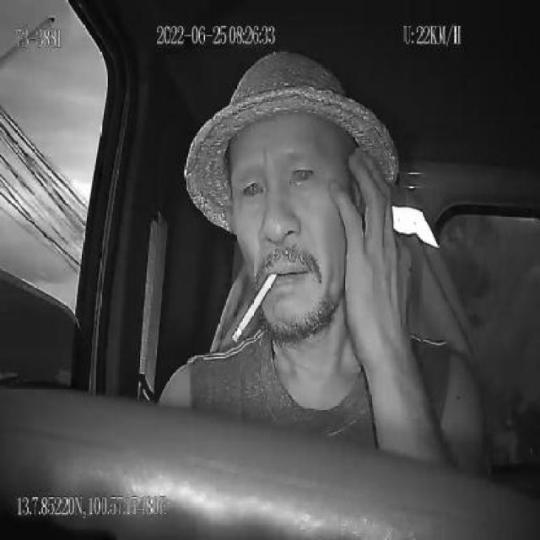smoking: (231, 269, 278, 343)
